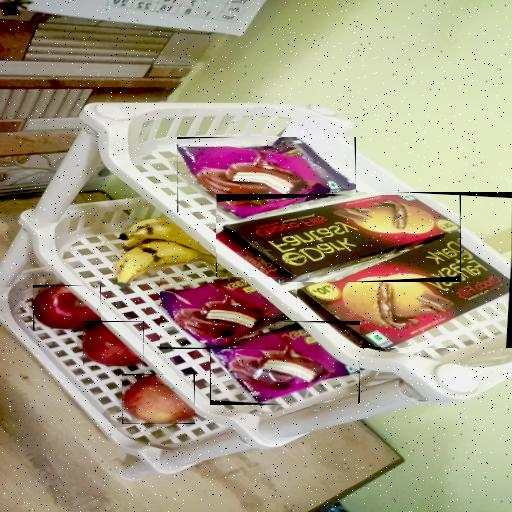Apple: (122, 374, 195, 424), (33, 285, 101, 330), (83, 321, 144, 366)
Choco Fills: (297, 192, 512, 348), (217, 195, 459, 282)
Choco Pie: (177, 138, 356, 214), (210, 322, 360, 406), (160, 277, 284, 348)
